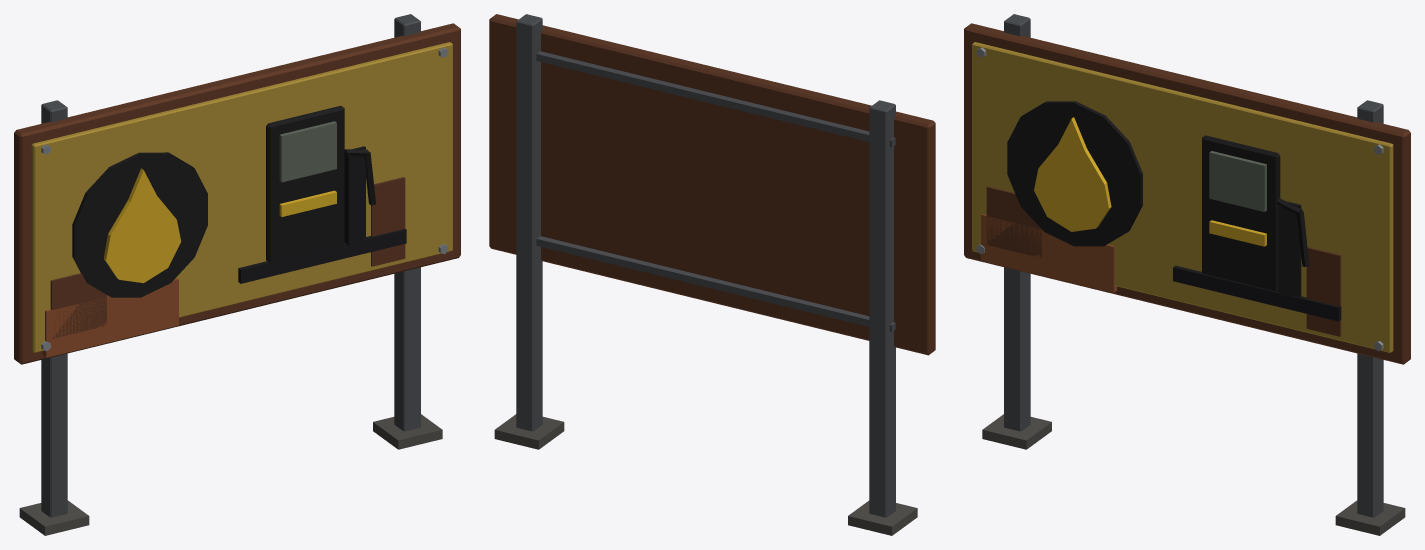
The model's file is lmk_sign_fuel.fbx.
3 renders of one model, left to right at view 1: azimuth 30°, elevation 25°; view 2: azimuth 150°, elevation 25°; view 3: azimuth 330°, elevation 25°, orthographic.
Visible parts, largest first — view 1: lmk_sign_fuel; view 2: lmk_sign_fuel; view 3: lmk_sign_fuel.
Boxes of the visible parts, left/top/right/bottom form: lmk_sign_fuel: left=14, top=14, right=460, bottom=535; lmk_sign_fuel: left=489, top=14, right=935, bottom=535; lmk_sign_fuel: left=964, top=14, right=1410, bottom=535.
Bounding box in the file's own units: 4 × 3.6 × 0.475.
